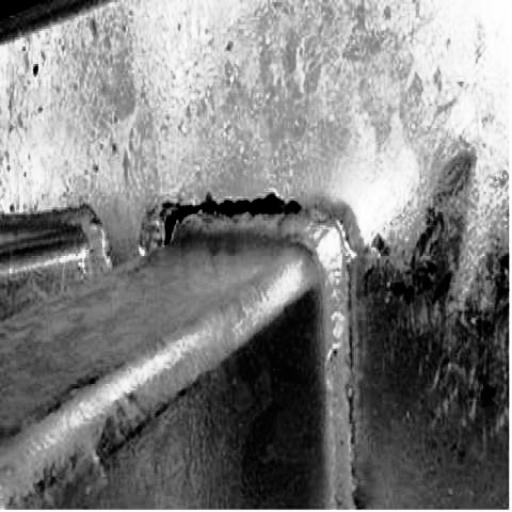crack: (158, 188, 317, 236)
